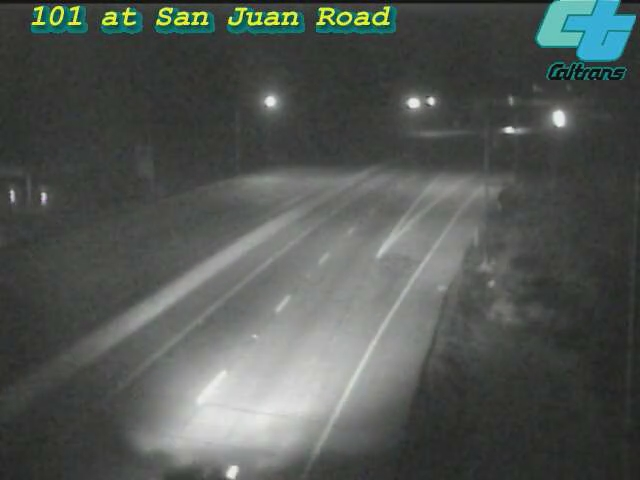vehicle: (137, 420, 247, 480), (486, 104, 536, 154), (528, 93, 578, 143)
